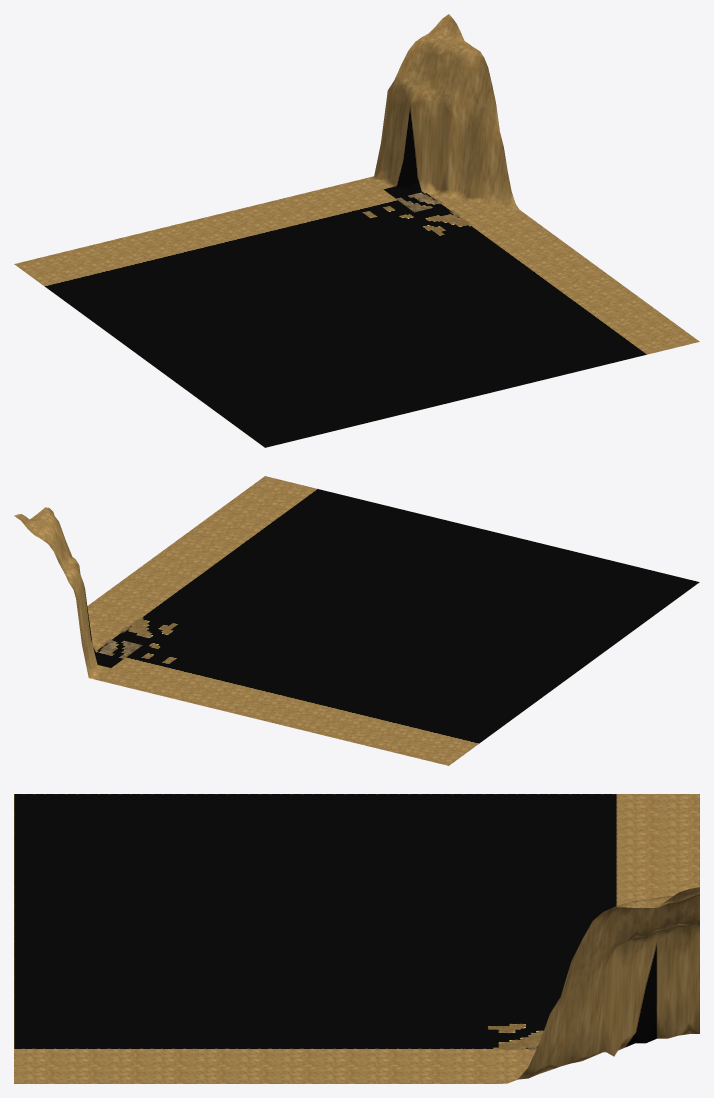
File: terrain.glb
3 renders of one model, top to bottom at view 1: azimuth 30°, elevation 25°; view 2: azimuth 150°, elevation 25°; view 3: azimuth 270°, elevation 25°, orthographic. The views are drawn at different scales.
Visible parts, largest first — view 1: terrain_3_0; view 2: terrain_3_0; view 3: terrain_3_0.
Part boxes in pixels (x1,y1,x2,y2): terrain_3_0: (14,14,699,447); terrain_3_0: (14,476,699,765); terrain_3_0: (14,794,699,1083).
Size of the model in its own units: 512 by 162 by 512.
1 material, 1 textured.
